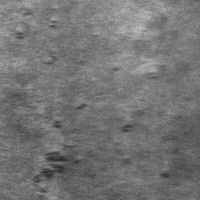rolled-in_scale: (32, 119, 79, 199), (14, 9, 57, 64)
